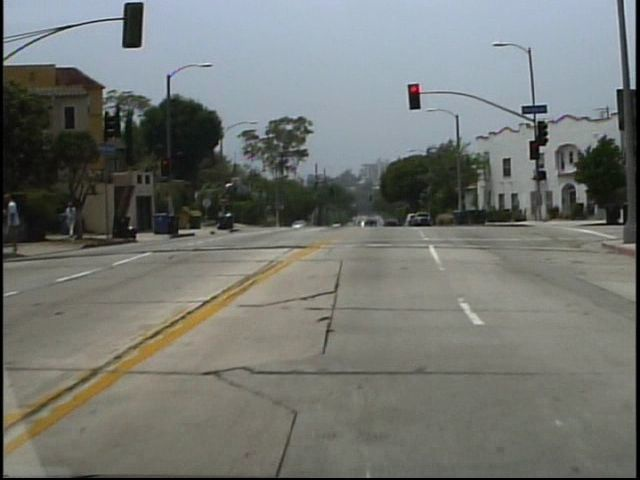person: (67, 201, 81, 243)
